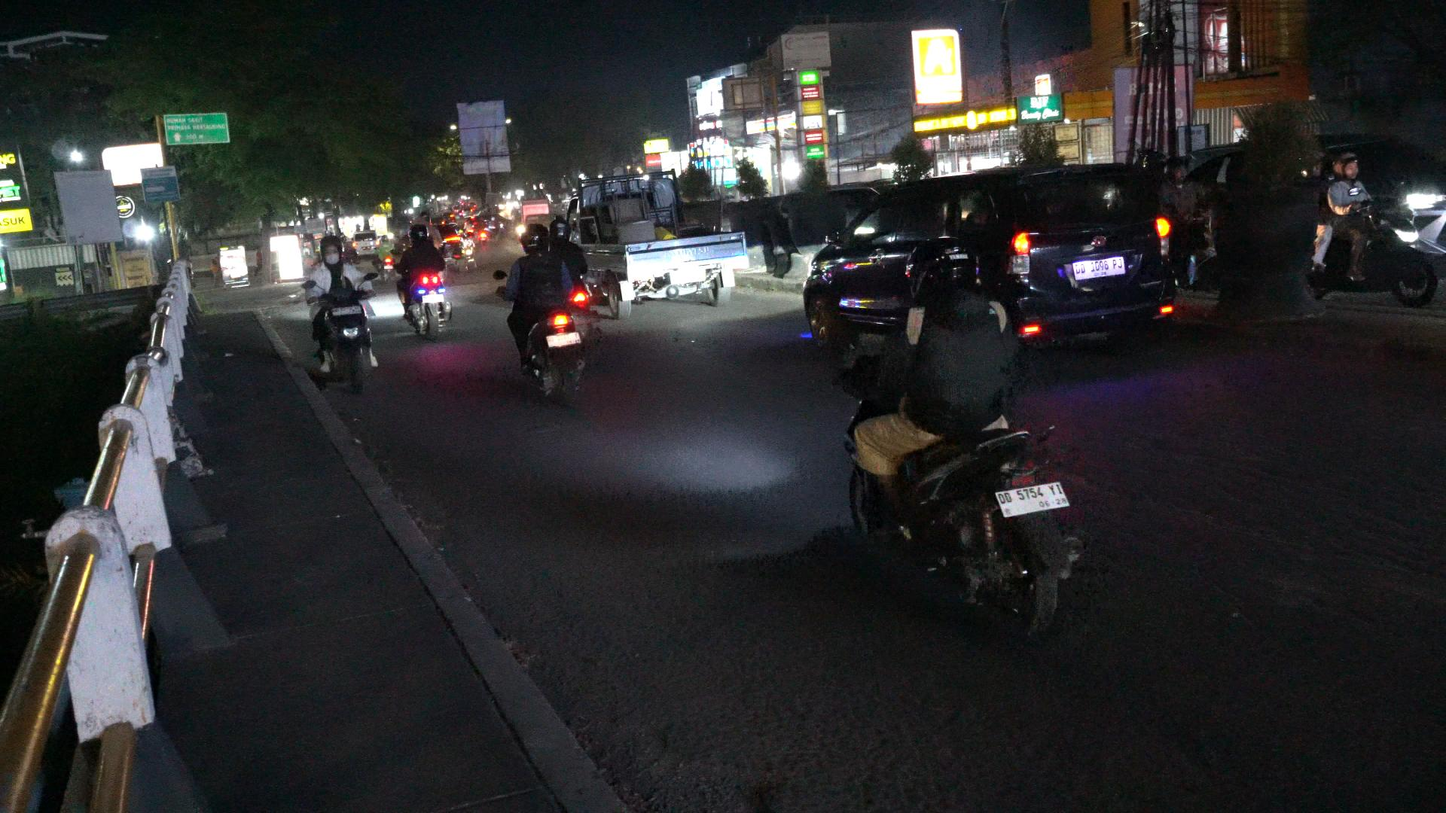number-plate: (331, 304, 364, 318)
